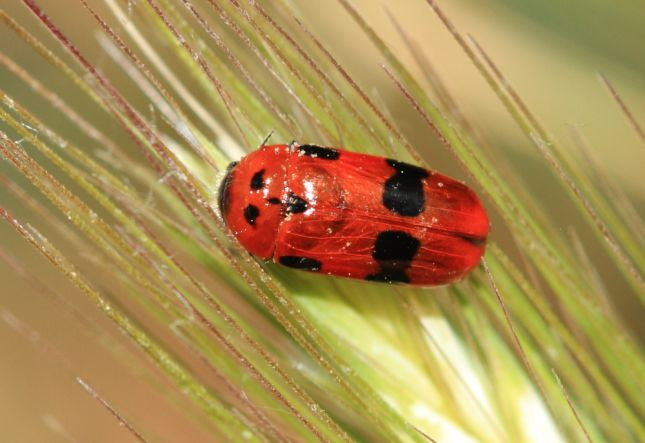Clytra_novempunctata: (208, 126, 491, 307)
